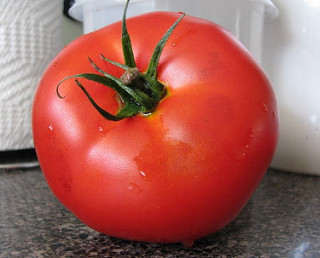tomato: (34, 8, 275, 242)
